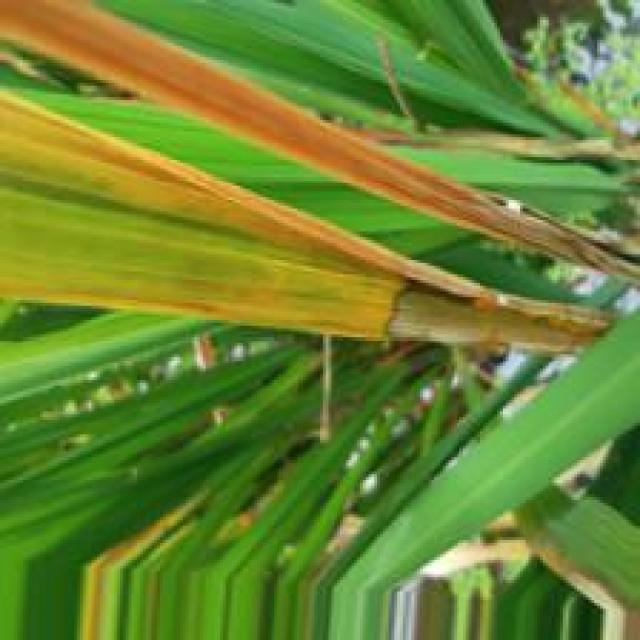Leaf_Scald: (0, 0, 637, 277), (0, 92, 623, 353)
